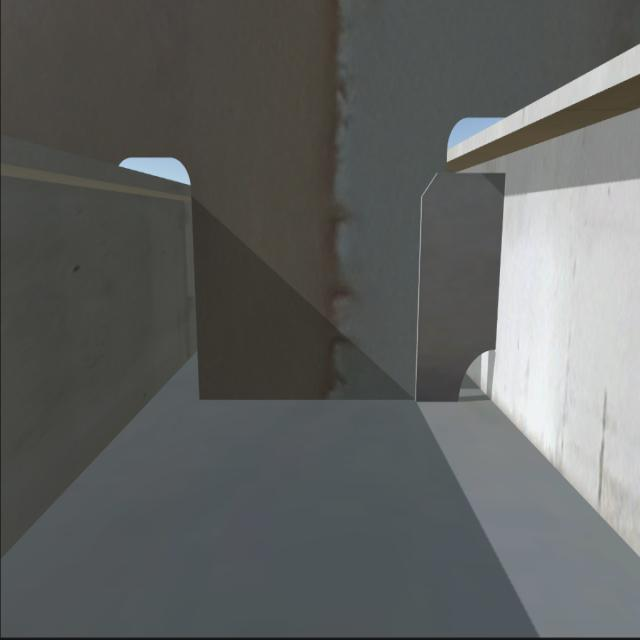fillet_hole: (460, 347, 496, 402)
fillet_yong_jeop_jang: (203, 394, 459, 404)
longi_yong_jeop_jang: (491, 178, 504, 347)
plate_CP03: (420, 167, 508, 400)
